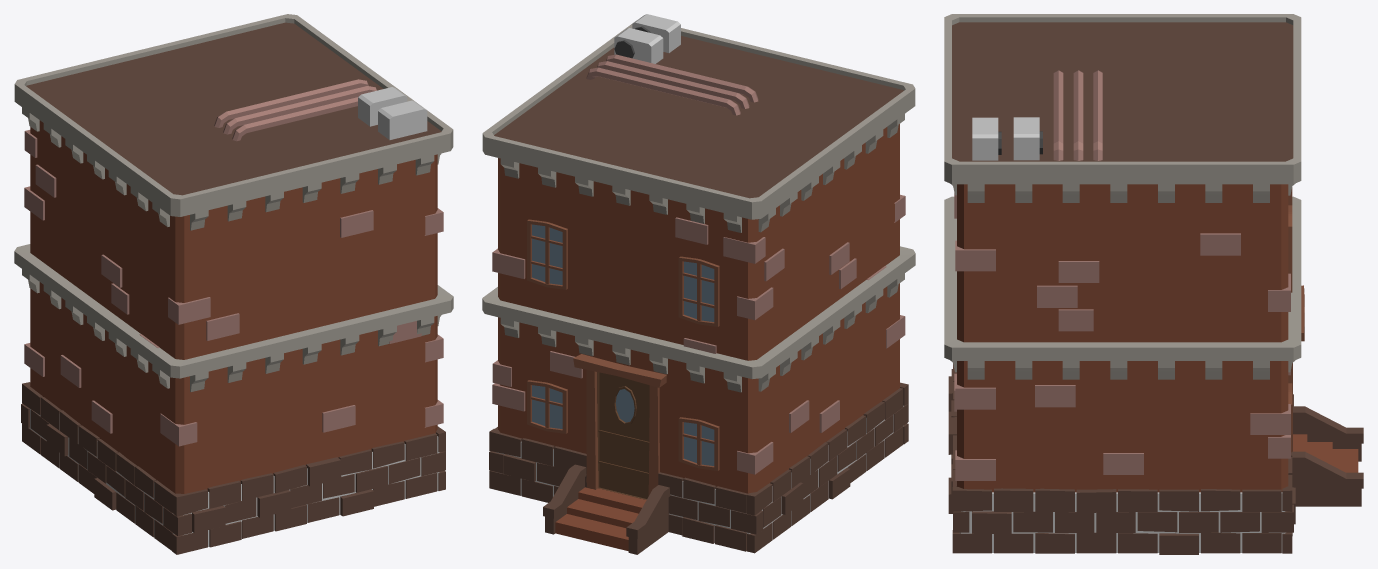
The model's file is 2Story_Stairs.glb.
3 views of the same model, side by side, from view 1: azimuth 30°, elevation 25°; view 2: azimuth 150°, elevation 25°; view 3: azimuth 270°, elevation 25° (orthographic). The views are drawn at different scales.
Parts seen in each view (by area): view 1: 2Story_Stairs; view 2: 2Story_Stairs; view 3: 2Story_Stairs.
Part boxes in pixels (x1,y1,x2,y2): 2Story_Stairs: (14, 14, 453, 554); 2Story_Stairs: (482, 14, 915, 554); 2Story_Stairs: (944, 14, 1363, 554).
Size of the model in its own units: 2.16 by 2.75 by 2.53.
Materials: 1 (1 with a texture image).
